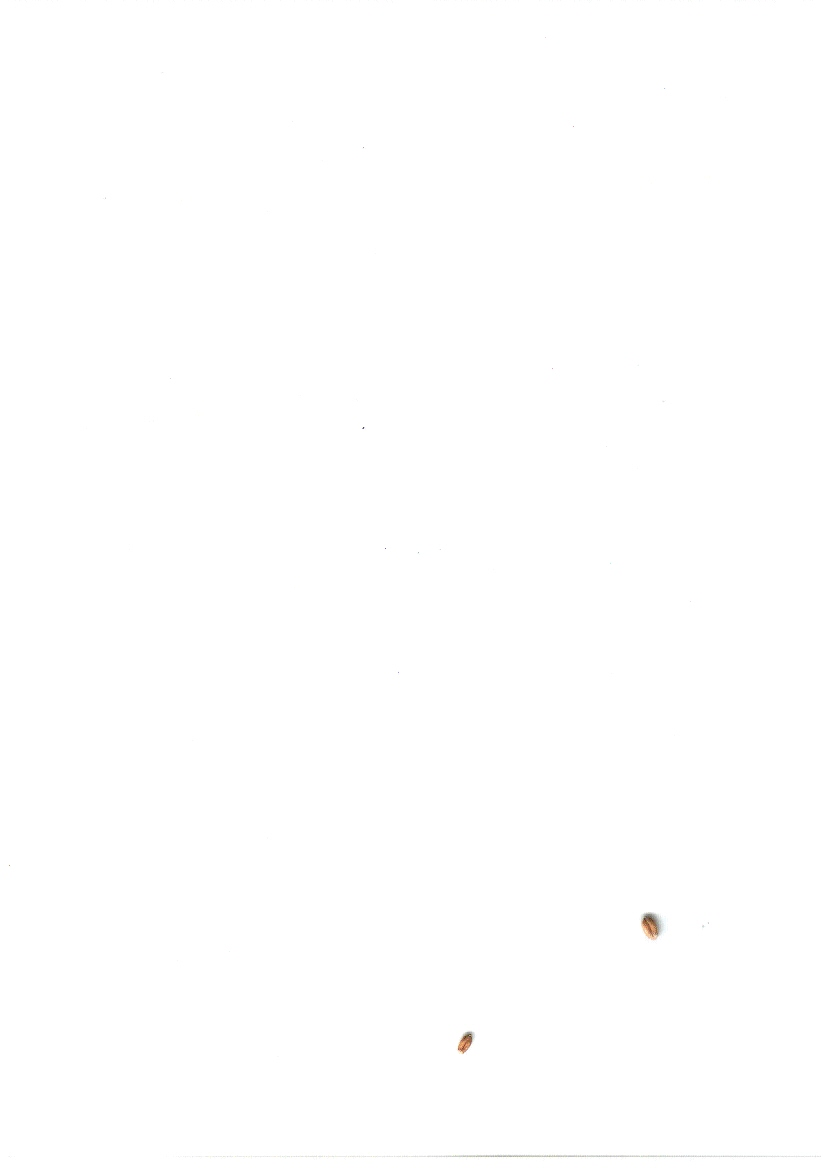grains: (628, 901, 673, 955), (449, 1023, 485, 1066)
